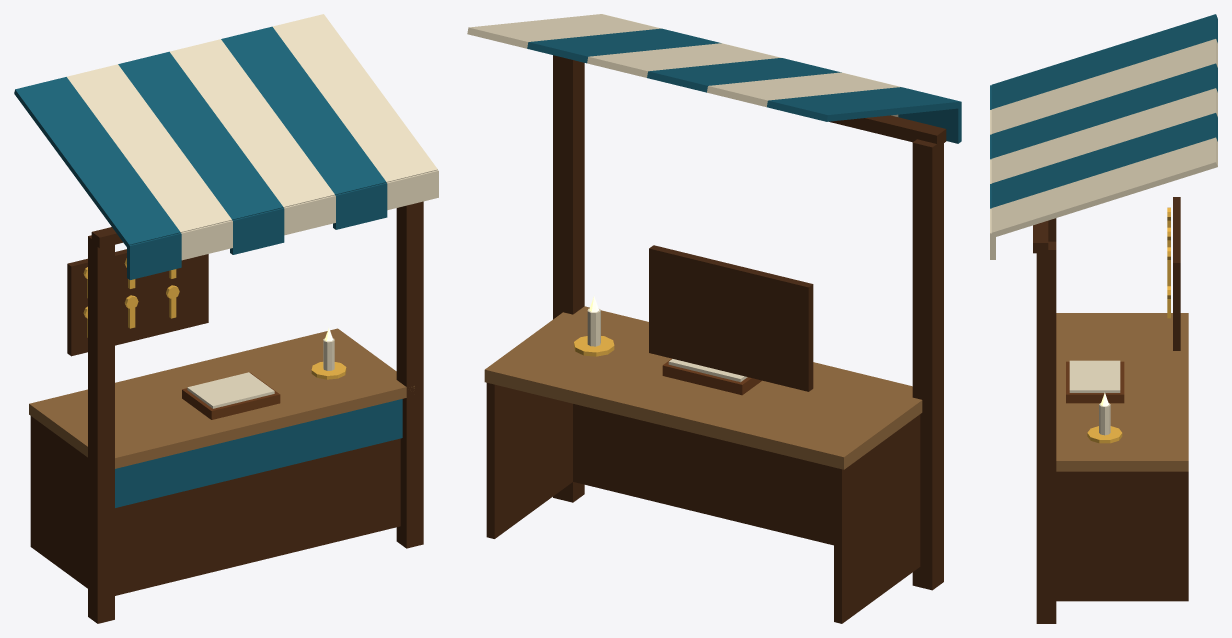
Rendered from shop_inn_stall.gltf.
The picture shows the model from 3 angles, left to right: view 1: azimuth 30°, elevation 25°; view 2: azimuth 150°, elevation 25°; view 3: azimuth 270°, elevation 25°; orthographic projection. The views are drawn at different scales.
Parts seen in each view (by area): view 1: ShopInnStallShopWood, ShopInnStallShopCloth, ShopInnStallShopCream, ShopInnStallShopWoodLight, ShopInnStallShopGold, ShopInnStallShopLeather; view 2: ShopInnStallShopWood, ShopInnStallShopWoodLight, ShopInnStallShopCloth, ShopInnStallShopCream, ShopInnStallShopLeather; view 3: ShopInnStallShopWood, ShopInnStallShopCream, ShopInnStallShopWoodLight, ShopInnStallShopCloth, ShopInnStallShopLeather, ShopInnStallShopGold.
Boxes of the visible parts, left/top/right/bottom form: ShopInnStallShopWood: left=30, top=201, right=423, bottom=623; ShopInnStallShopCloth: left=14, top=26, right=402, bottom=507; ShopInnStallShopCream: left=67, top=14, right=438, bottom=408; ShopInnStallShopWoodLight: left=29, top=328, right=414, bottom=468; ShopInnStallShopGold: left=83, top=258, right=346, bottom=379; ShopInnStallShopLeather: left=182, top=372, right=280, bottom=419; ShopInnStallShopWood: left=486, top=55, right=946, bottom=623; ShopInnStallShopWoodLight: left=484, top=306, right=922, bottom=469; ShopInnStallShopCloth: left=527, top=28, right=961, bottom=143; ShopInnStallShopCream: left=467, top=14, right=901, bottom=382; ShopInnStallShopLeather: left=662, top=358, right=761, bottom=395; ShopInnStallShopWood: left=1033, top=197, right=1188, bottom=623; ShopInnStallShopCream: left=990, top=39, right=1217, bottom=435; ShopInnStallShopWoodLight: left=1056, top=313, right=1188, bottom=471; ShopInnStallShopCloth: left=990, top=14, right=1217, bottom=208; ShopInnStallShopLeather: left=1066, top=361, right=1124, bottom=403; ShopInnStallShopGold: left=1087, top=207, right=1170, bottom=443.
Size of what is drawn, in the model's own units: 1.9 by 2.59 by 1.17.
